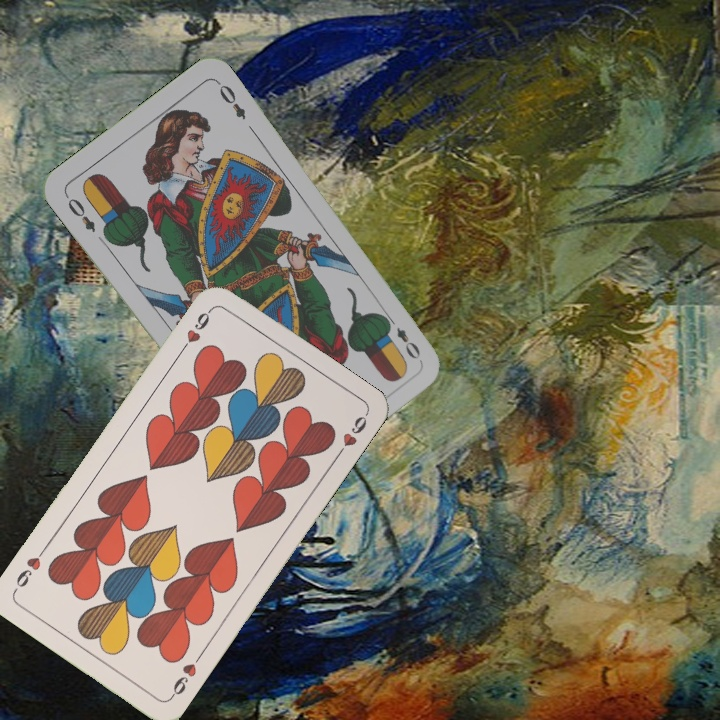EO: (381, 311, 424, 362), (61, 190, 98, 235)
H9: (175, 304, 215, 356), (166, 650, 205, 702)
